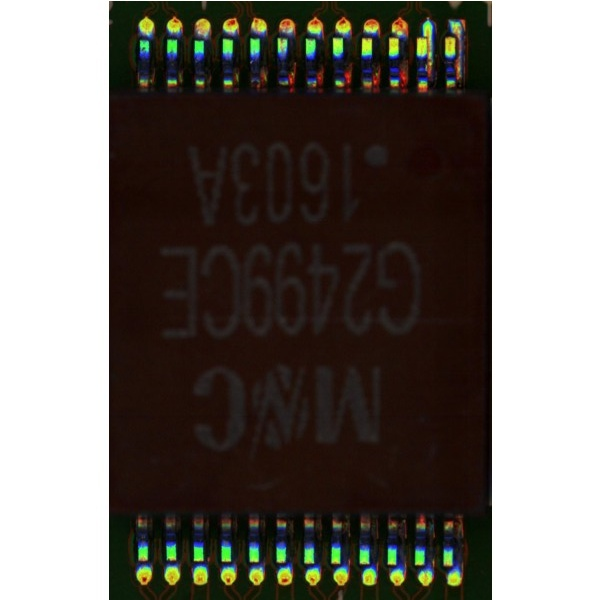Bad_qiaojiao: (456, 36, 463, 80), (427, 36, 433, 73)
